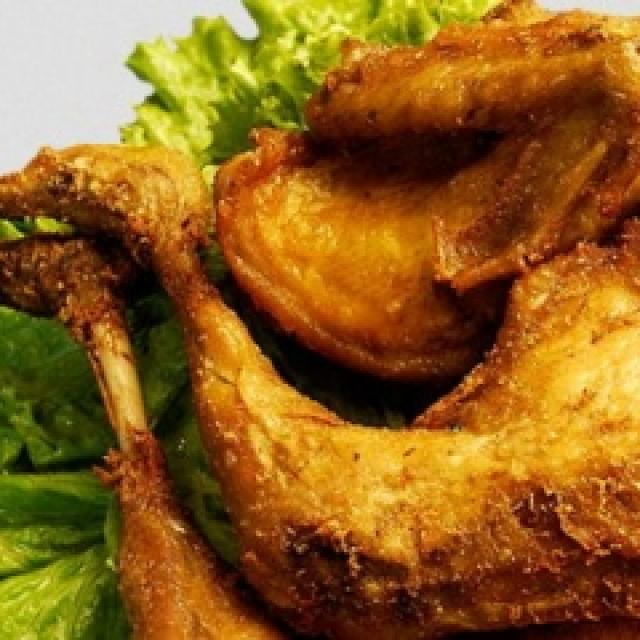Frango: (0, 141, 640, 640), (221, 0, 640, 379), (0, 240, 307, 640)
